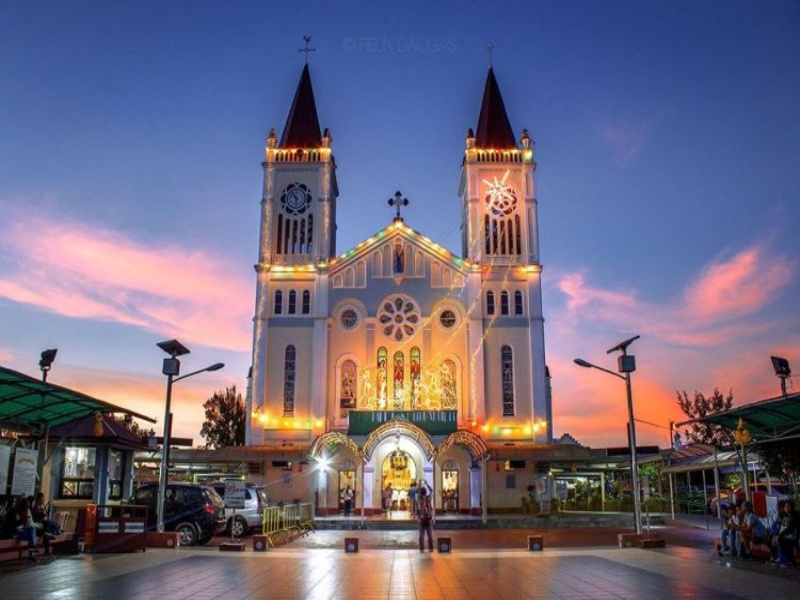Cathedral: (228, 30, 584, 578)
